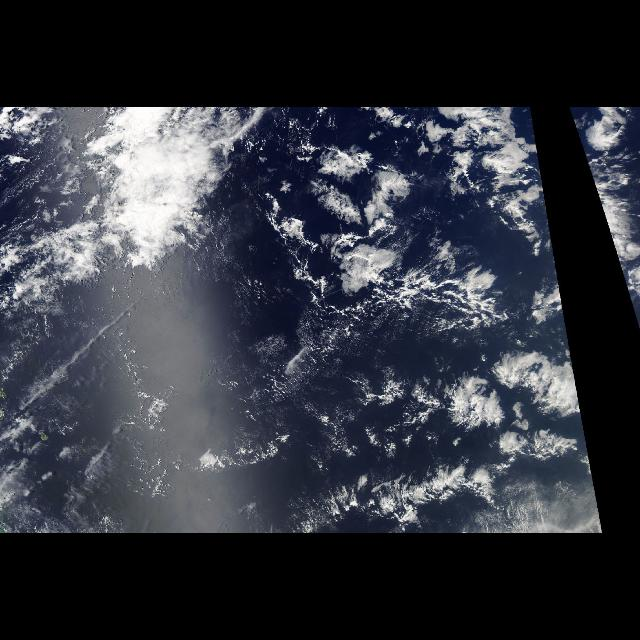Fish: (332, 233, 540, 337)
Flower: (372, 342, 592, 522), (256, 130, 458, 318)
